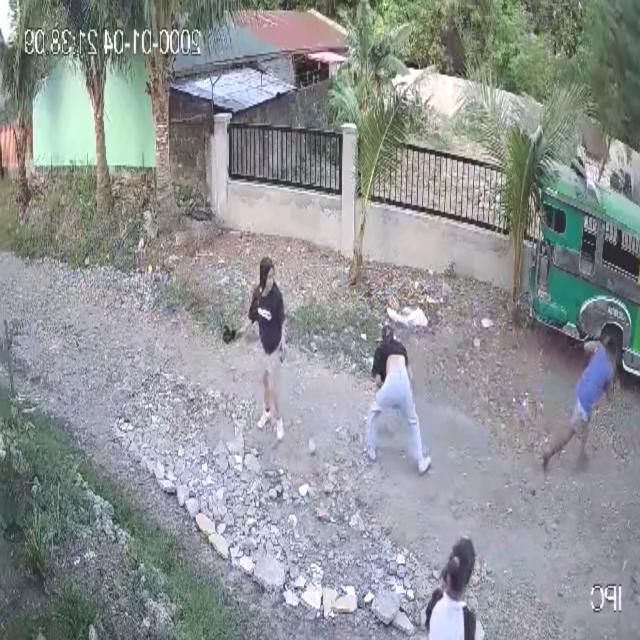running: (539, 328, 623, 477)
walking: (222, 251, 288, 446), (418, 536, 486, 640)
